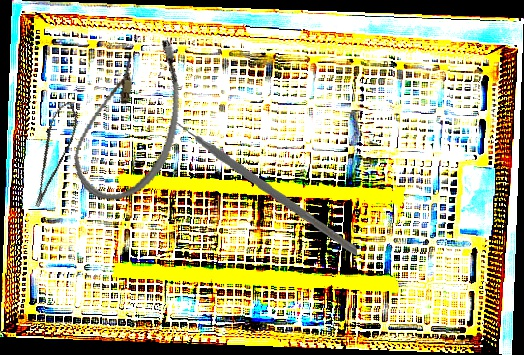Cannula: (65, 24, 196, 212)
Chopper: (164, 100, 367, 256)
Micro Scissor: (16, 97, 87, 210)
